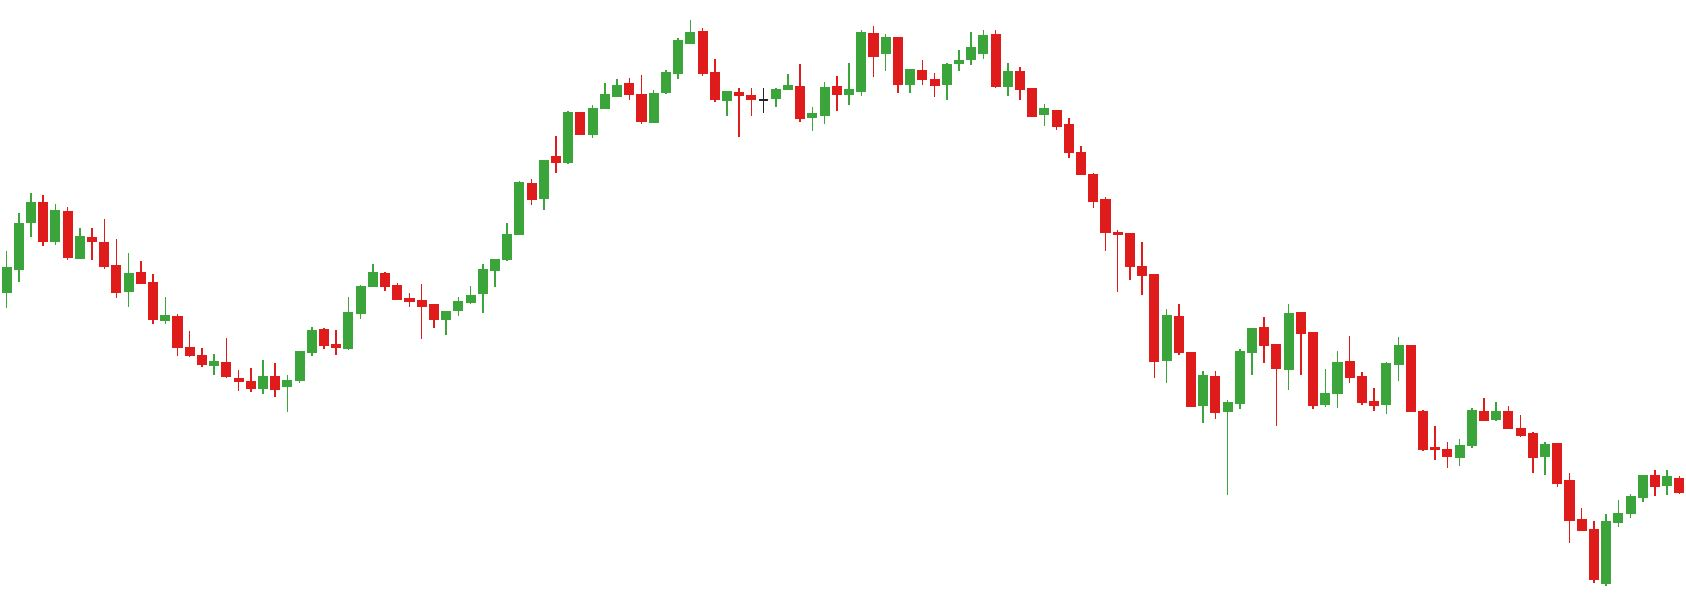sell: (882, 28, 1003, 80)
